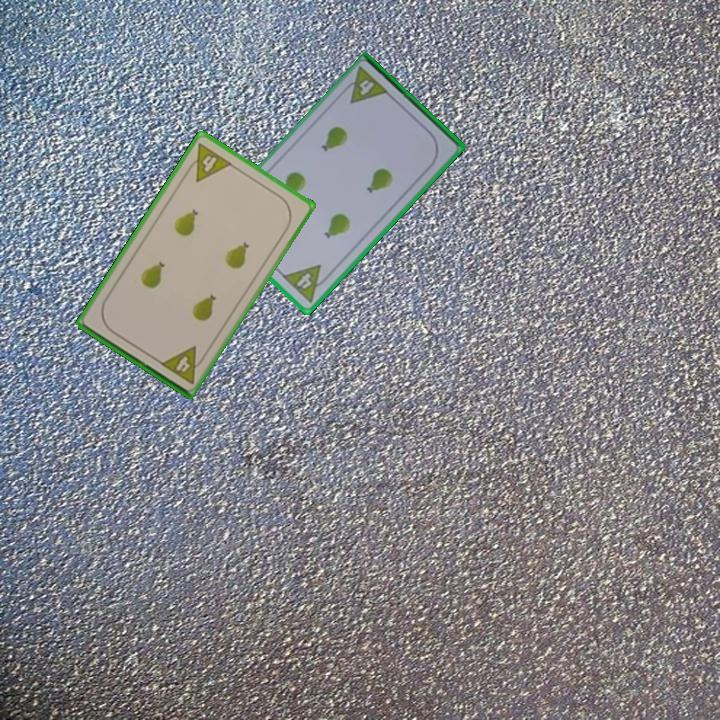4p: (181, 139, 235, 185), (279, 261, 334, 306), (157, 342, 209, 387), (338, 64, 392, 106)
